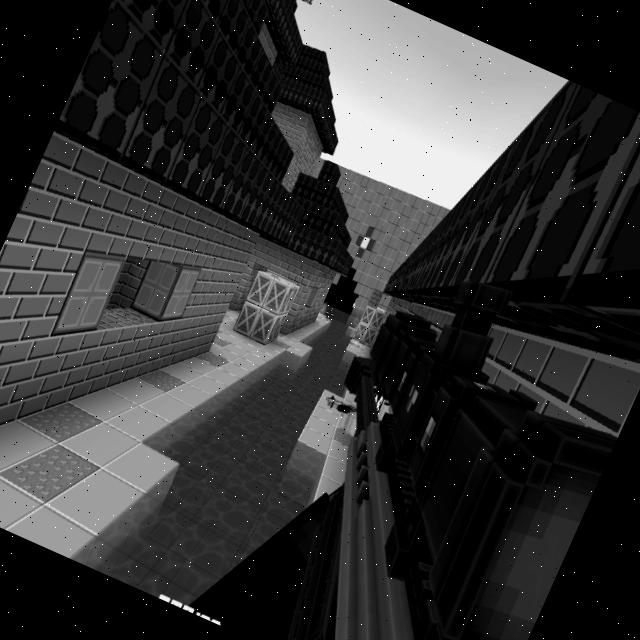Head: (374, 388, 392, 421)
